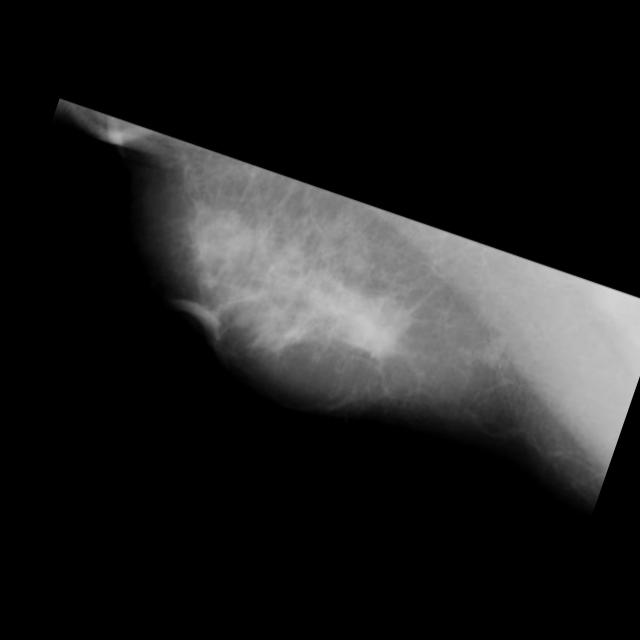SPIC: (320, 270, 432, 382)
